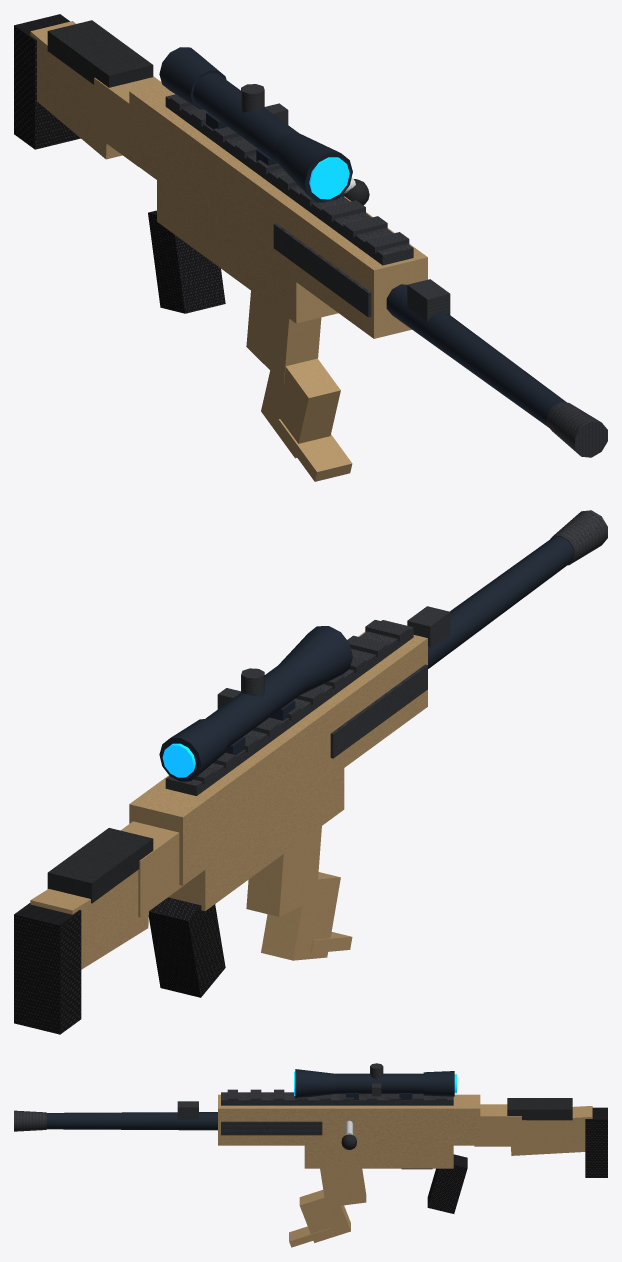
Rendered from scar.glb.
The picture shows the model from 3 angles, top to bottom: view 1: azimuth 30°, elevation 25°; view 2: azimuth 150°, elevation 25°; view 3: azimuth 270°, elevation 25°; orthographic projection. The views are drawn at different scales.
Parts seen in each view (by area): view 1: weapon_scar, MagazineNode; view 2: weapon_scar, MagazineNode; view 3: weapon_scar, MagazineNode, BoltHandleNode.
Part boxes in pixels (x1,y1,x2,y2): weapon_scar: [14, 14, 607, 457]; MagazineNode: [246, 291, 352, 481]; weapon_scar: [14, 510, 607, 1034]; MagazineNode: [246, 826, 352, 960]; weapon_scar: [14, 1063, 607, 1213]; MagazineNode: [289, 1168, 366, 1247]; BoltHandleNode: [341, 1120, 356, 1149].
Size of the model in its own units: 0.1235 by 0.3277 by 0.9965.
7 materials, 5 textured.
